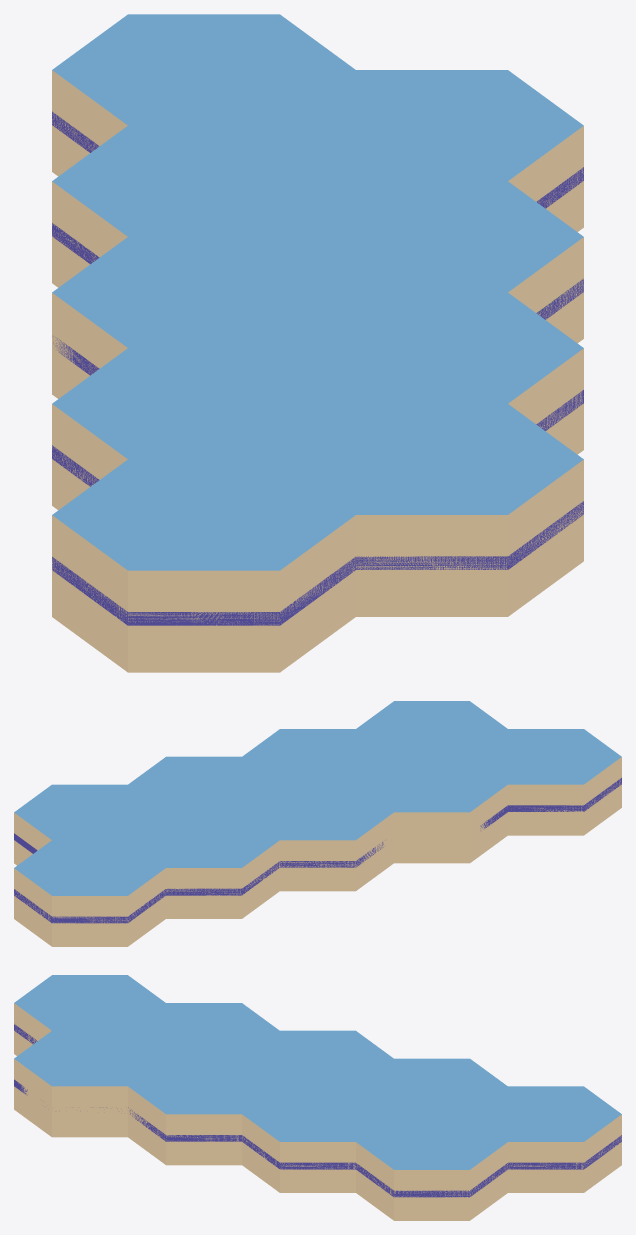
The model's file is granja-low.glb.
3 views of the same model, one above another, from view 1: azimuth 30°, elevation 25°; view 2: azimuth 150°, elevation 25°; view 3: azimuth 270°, elevation 25° (orthographic). The views are drawn at different scales.
Visible parts, largest first — view 1: GRANJA_Techo, GRANJA_Paredes, GRANJA_Bloque_Intermedio; view 2: GRANJA_Techo, GRANJA_Paredes, GRANJA_Bloque_Intermedio; view 3: GRANJA_Techo, GRANJA_Paredes, GRANJA_Bloque_Intermedio.
Part boxes in pixels (bbox=[...]): GRANJA_Techo: bbox=[52, 14, 583, 570]; GRANJA_Paredes: bbox=[52, 70, 583, 672]; GRANJA_Bloque_Intermedio: bbox=[52, 111, 583, 625]; GRANJA_Techo: bbox=[14, 701, 621, 895]; GRANJA_Paredes: bbox=[14, 757, 621, 946]; GRANJA_Bloque_Intermedio: bbox=[14, 778, 621, 923]; GRANJA_Techo: bbox=[14, 975, 621, 1169]; GRANJA_Paredes: bbox=[14, 1003, 621, 1220]; GRANJA_Bloque_Intermedio: bbox=[14, 1024, 621, 1197].
Size of the model in its own units: 303 by 37.07 by 400.
